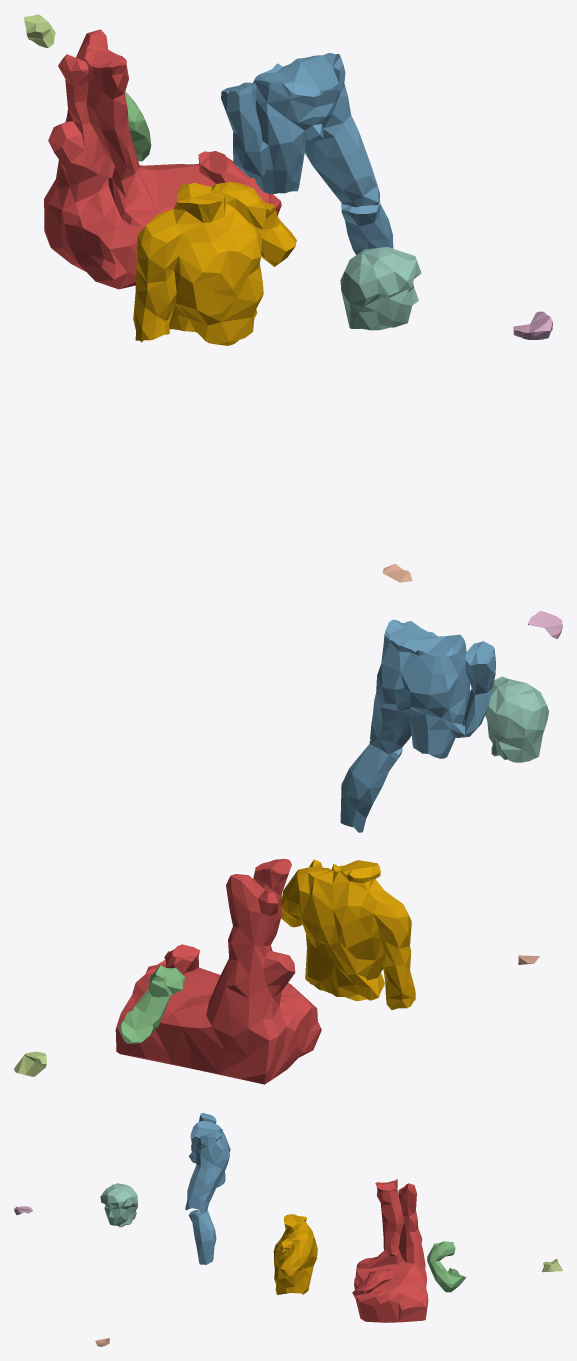
File: fractured_29_8pcs_transformed.glb
3 views of the same model, one above another, from view 1: azimuth 30°, elevation 25°; view 2: azimuth 150°, elevation 25°; view 3: azimuth 270°, elevation 25° (orthographic). The views are drawn at different scales.
Parts seen in each view (by area): view 1: piece_1.obj, piece_0.obj, piece_2.obj, piece_4.obj, piece_3.obj, piece_6.obj, piece_5.obj; view 2: piece_1.obj, piece_2.obj, piece_0.obj, piece_4.obj, piece_3.obj, piece_5.obj; view 3: piece_1.obj, piece_2.obj, piece_0.obj, piece_4.obj, piece_3.obj.
Part boxes in pixels (x1=…): piece_1.obj: x1=44, y1=29, x2=281, y2=289; piece_0.obj: x1=133, y1=182, x2=296, y2=345; piece_2.obj: x1=221, y1=52, x2=393, y2=254; piece_4.obj: x1=340, y1=247, x2=421, y2=330; piece_3.obj: x1=125, y1=91, x2=151, y2=161; piece_6.obj: x1=513, y1=311, x2=552, y2=339; piece_5.obj: x1=24, y1=14, x2=55, y2=47; piece_1.obj: x1=115, y1=858, x2=321, y2=1084; piece_2.obj: x1=340, y1=619, x2=495, y2=832; piece_0.obj: x1=281, y1=859, x2=415, y2=1009; piece_4.obj: x1=485, y1=676, x2=548, y2=762; piece_3.obj: x1=119, y1=965, x2=185, y2=1043; piece_5.obj: x1=14, y1=1051, x2=46, y2=1076; piece_1.obj: x1=352, y1=1179, x2=428, y2=1322; piece_2.obj: x1=185, y1=1113, x2=230, y2=1264; piece_0.obj: x1=273, y1=1214, x2=317, y2=1294; piece_4.obj: x1=100, y1=1183, x2=137, y2=1227; piece_3.obj: x1=427, y1=1241, x2=466, y2=1292.
Size of the model in its own units: 0.4197 by 0.8443 by 1.91.
